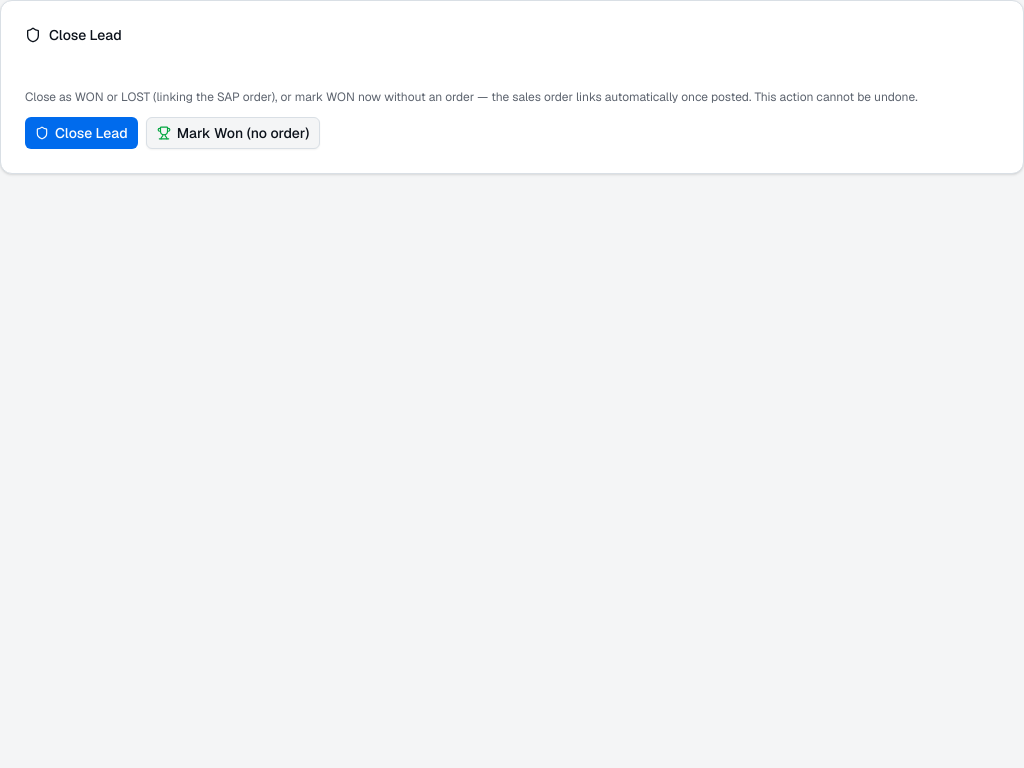
Test: <ClosureCard> › blocks Mark Won until a salesperson is assigned
Click the button "Mark Won (no order)" at (233, 133), box [146,117,320,149]
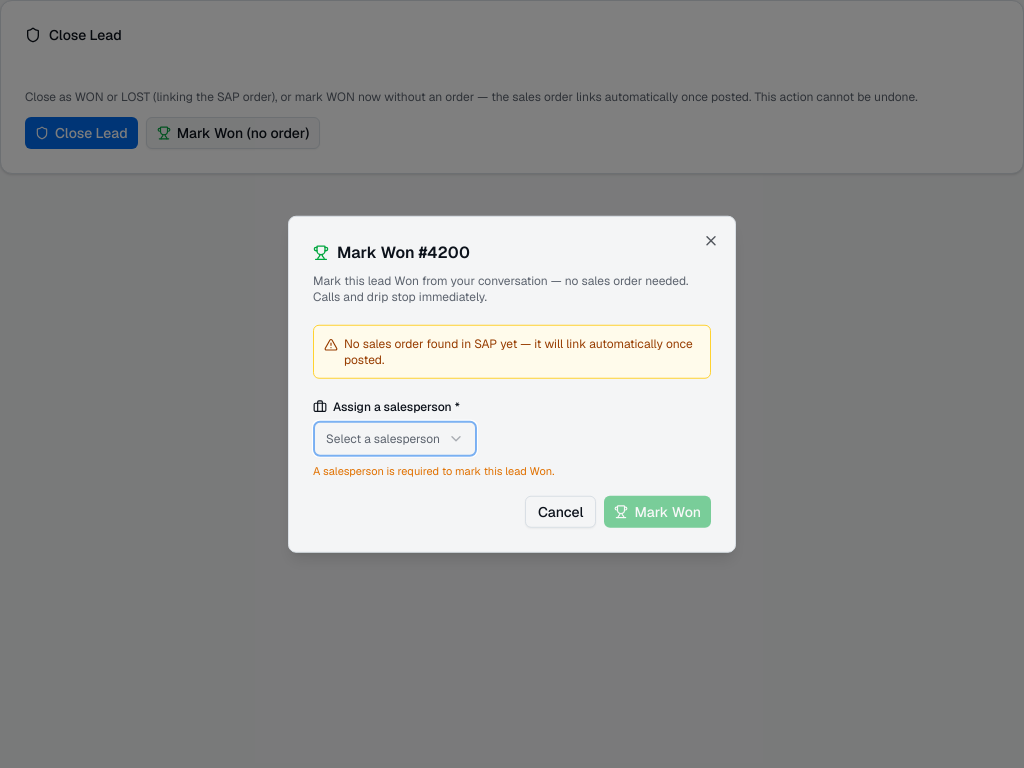
expect the heading "Mark Won #4200" is shown: met, box [313,242,470,263]
expect the text "A salesperson is required to mark this lead Won." is shown: met, box [313,464,554,478]
expect the button "Mark Won" is disabled: met, box [604,495,711,527]
